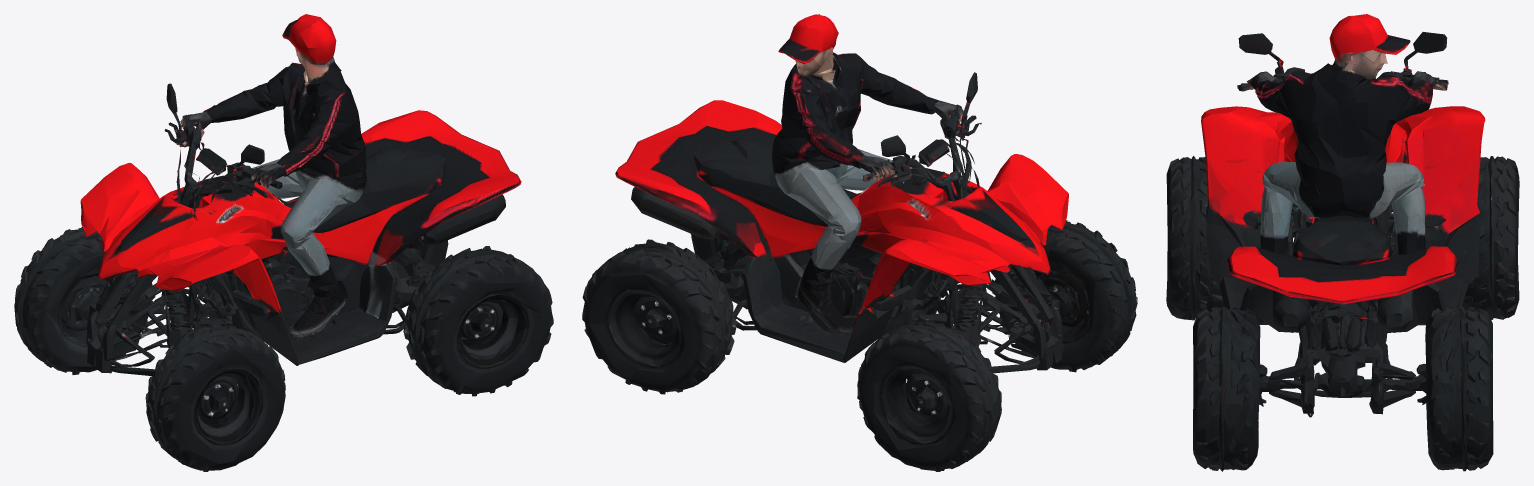
The model's file is quad-pilote.glb.
3 views of the same model, side by side, from view 1: azimuth 30°, elevation 25°; view 2: azimuth 150°, elevation 25°; view 3: azimuth 270°, elevation 25° (orthographic). The views are drawn at different scales.
Bounding box in the file's own units: 1.9 × 1.55 × 1.27.
1 material, 1 textured.
